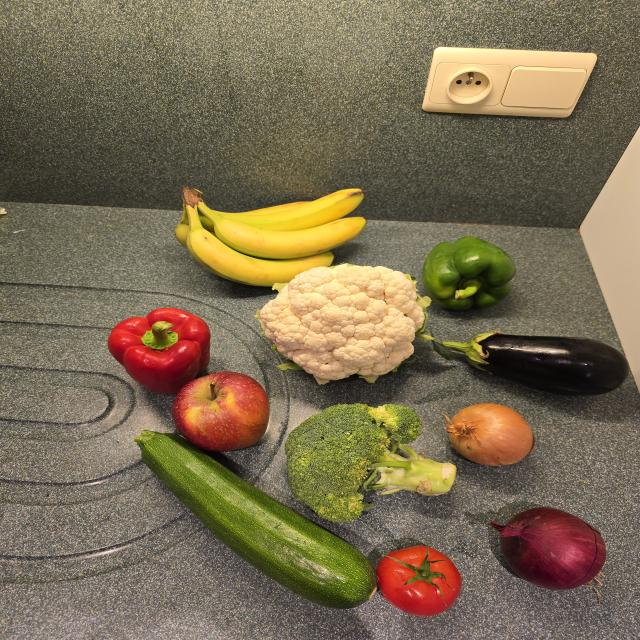Apple: (172, 372, 269, 451)
Banana: (176, 188, 366, 287)
Bell Pepper: (108, 308, 210, 393), (422, 237, 515, 310)
Broccoli: (286, 403, 456, 522)
Cauliflower: (259, 264, 425, 384)
Courgette: (135, 430, 377, 608)
Eggplant: (440, 333, 629, 395)
Onion: (491, 508, 606, 589), (445, 403, 535, 465)
Tomato: (376, 545, 462, 616)
